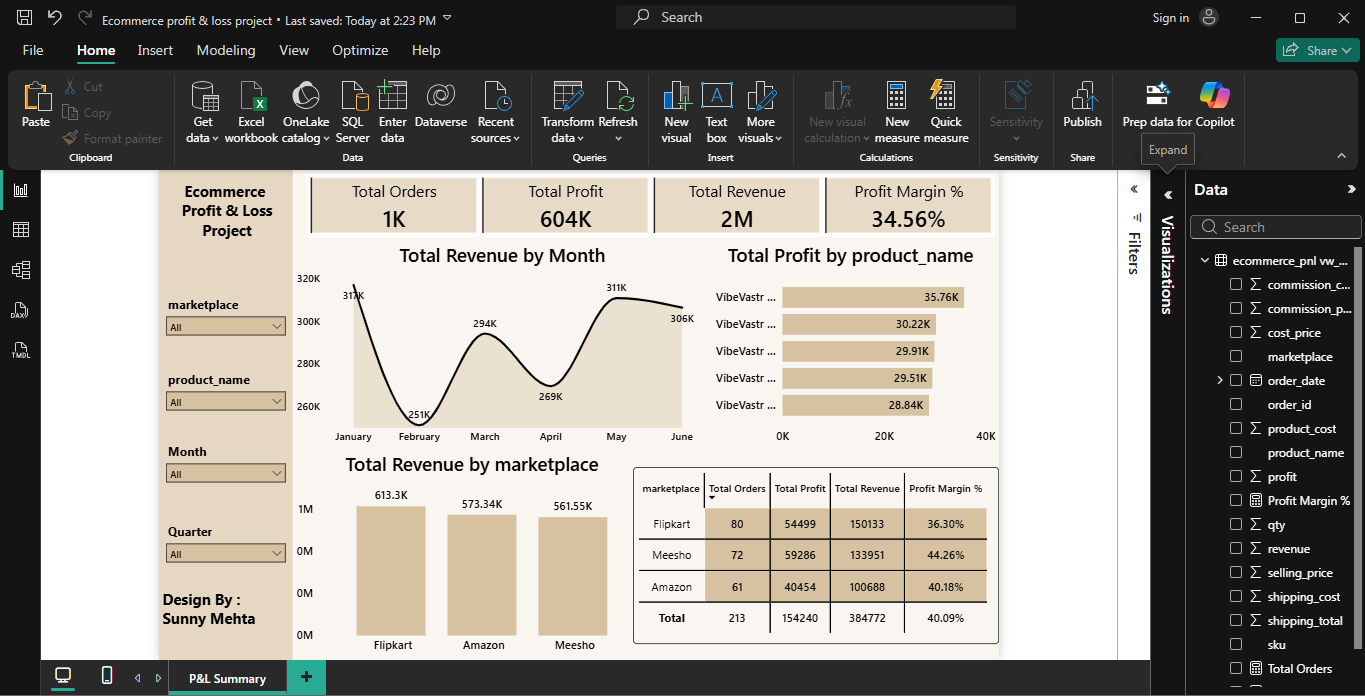

What the dashboard file says about the page in this screenshot:
{"tool":"powerbi","page":{"name":"P&L Summary","canvas":[1200,700],"ordinal":0},"visuals":[{"type":"shape","box":[0,0,191.4,720],"z":0},{"type":"textbox","box":[2.9,10,188.6,112.9],"z":1000},{"type":"cardVisual","fields":{"Data":["ecommerce_pnl vw_marketplace_pnl.Total Orders","ecommerce_pnl vw_marketplace_pnl.Total Profit","ecommerce_pnl vw_marketplace_pnl.Total Revenue","ecommerce_pnl vw_marketplace_pnl.Profit Margin %"]},"box":[205.7,0,994.3,101.4],"z":2000},{"type":"lineChart","fields":{"Category":["ecommerce_pnl vw_marketplace_pnl.order_date.Variation.Date Hierarchy.Month"],"Y":["ecommerce_pnl vw_marketplace_pnl.Total Revenue"]},"box":[191.4,102.9,598.6,298.6],"z":3000},{"type":"clusteredColumnChart","fields":{"Category":["ecommerce_pnl vw_marketplace_pnl.marketplace"],"Y":["ecommerce_pnl vw_marketplace_pnl.Total Revenue"]},"box":[191.4,401.4,511.4,298.6],"z":4000},{"type":"barChart","fields":{"Category":["ecommerce_pnl vw_marketplace_pnl.product_name"],"Y":["ecommerce_pnl vw_marketplace_pnl.Total Profit"]},"box":[775.7,102.9,424.3,298.6],"z":5000},{"type":"pivotTable","fields":{"Rows":["ecommerce_pnl vw_marketplace_pnl.marketplace"],"Values":["ecommerce_pnl vw_marketplace_pnl.Total Orders","ecommerce_pnl vw_marketplace_pnl.Total Profit","ecommerce_pnl vw_marketplace_pnl.Total Revenue","ecommerce_pnl vw_marketplace_pnl.Profit Margin %"]},"box":[677.1,424.3,522.9,252.9],"z":6000},{"type":"slicer","fields":{"Values":["ecommerce_pnl vw_marketplace_pnl.product_name"]},"box":[0,281.4,191.4,78.6],"z":6001},{"type":"slicer","fields":{"Values":["ecommerce_pnl vw_marketplace_pnl.order_date.Variation.Date Hierarchy.Month"]},"box":[0,384.3,191.4,78.6],"z":6002},{"type":"slicer","fields":{"Values":["ecommerce_pnl vw_marketplace_pnl.order_date.Variation.Date Hierarchy.Quarter"]},"box":[0,498.6,191.4,78.6],"z":6003},{"type":"slicer","fields":{"Values":["ecommerce_pnl vw_marketplace_pnl.marketplace"]},"box":[0,174.3,191.4,78.6],"z":6004},{"type":"textbox","box":[0,592.9,191.4,84.3],"z":6005}]}

Visuals, with their boxes on the page's 1200x700 design canvas (x1, y1, x2, y2). These are canvas units, not pixel positions in the 1365x696 screenshot, which may show the page scaled, cropped or inside an application window:
shape: select_region(0, 0, 191, 720)
textbox: select_region(3, 10, 192, 123)
cardVisual - ecommerce_pnl vw_marketplace_pnl.Total Orders x ecommerce_pnl vw_marketplace_pnl.Total Profit: select_region(206, 0, 1200, 101)
lineChart - ecommerce_pnl vw_marketplace_pnl.order_date.Variation.Date Hierarchy.Month x ecommerce_pnl vw_marketplace_pnl.Total Revenue: select_region(191, 103, 790, 402)
clusteredColumnChart - ecommerce_pnl vw_marketplace_pnl.marketplace x ecommerce_pnl vw_marketplace_pnl.Total Revenue: select_region(191, 401, 703, 700)
barChart - ecommerce_pnl vw_marketplace_pnl.product_name x ecommerce_pnl vw_marketplace_pnl.Total Profit: select_region(776, 103, 1200, 402)
pivotTable - ecommerce_pnl vw_marketplace_pnl.marketplace x ecommerce_pnl vw_marketplace_pnl.Total Orders: select_region(677, 424, 1200, 677)
slicer - ecommerce_pnl vw_marketplace_pnl.product_name: select_region(0, 281, 191, 360)
slicer - ecommerce_pnl vw_marketplace_pnl.order_date.Variation.Date Hierarchy.Month: select_region(0, 384, 191, 463)
slicer - ecommerce_pnl vw_marketplace_pnl.order_date.Variation.Date Hierarchy.Quarter: select_region(0, 499, 191, 577)
slicer - ecommerce_pnl vw_marketplace_pnl.marketplace: select_region(0, 174, 191, 253)
textbox: select_region(0, 593, 191, 677)
